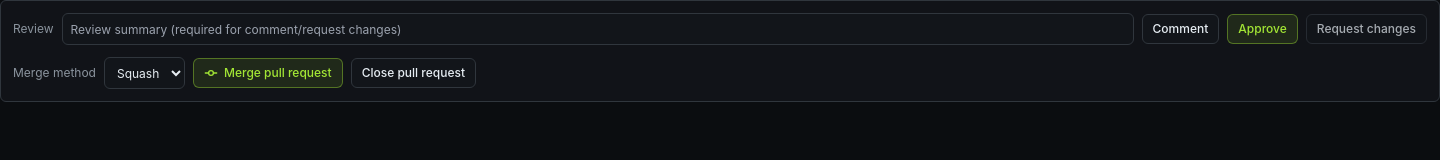
DiscussionActions › merges a pull request for users with write access
The width and height of the screenshot is (1440, 160).
Click the button with test id "merge-button": x=268, y=73 [193,58,343,88]
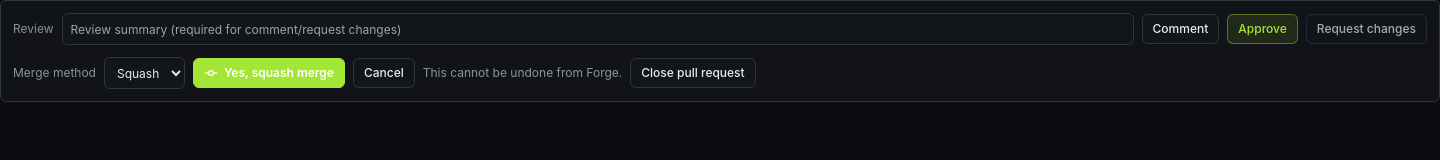
Check: the text "This cannot be undone from Forge." is shown, box [423,65,622,81]
Click the button with test id "merge-confirm-button": x=269, y=73 [193,58,345,88]
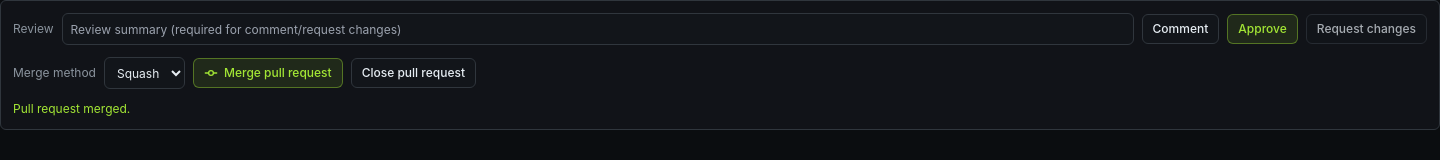
Check: the text "Pull request merged." is shown, box [13,101,130,116]
